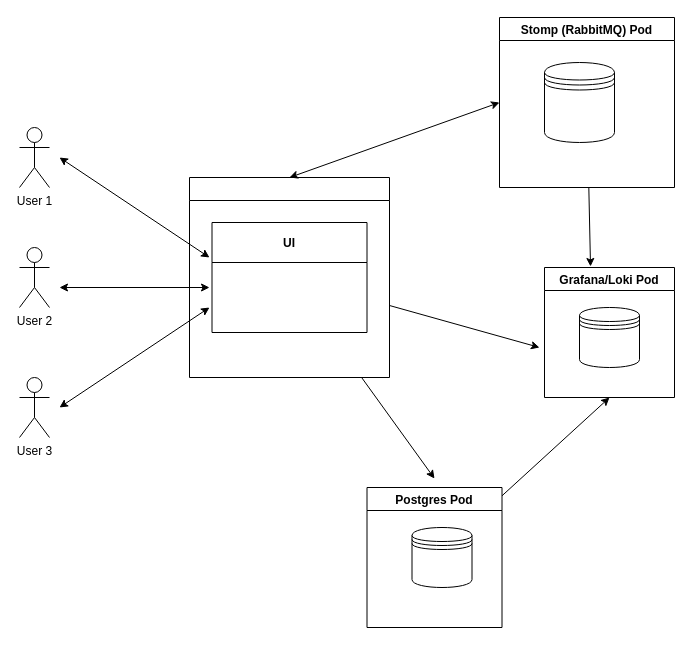
This 692x645 diagram has some shape labels left out. The shapes that lost their labels are listed below. From the top down, each one's centre as x and y in pixels, then its label:
At [579,102]: "Messages Topic".
At [289,277]: "Web socket Pod (3 Replica)".
At [609,337]: "Log Database".
At [441,557]: "Message DataBase".
